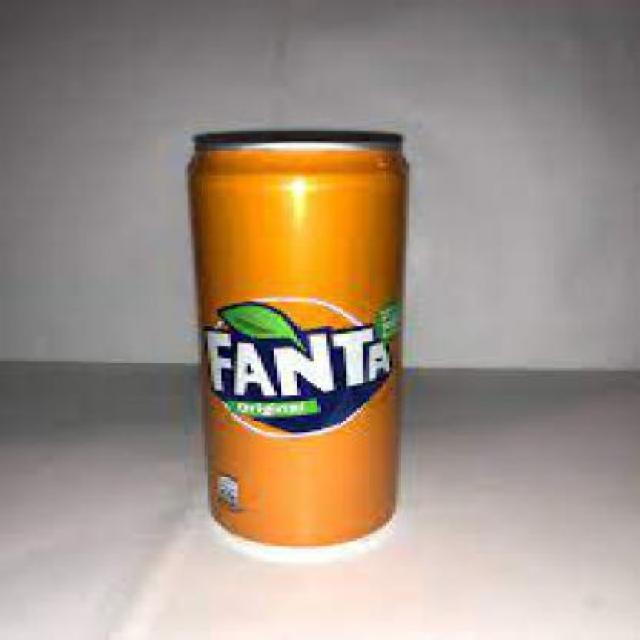Fanta: (185, 126, 412, 552)
